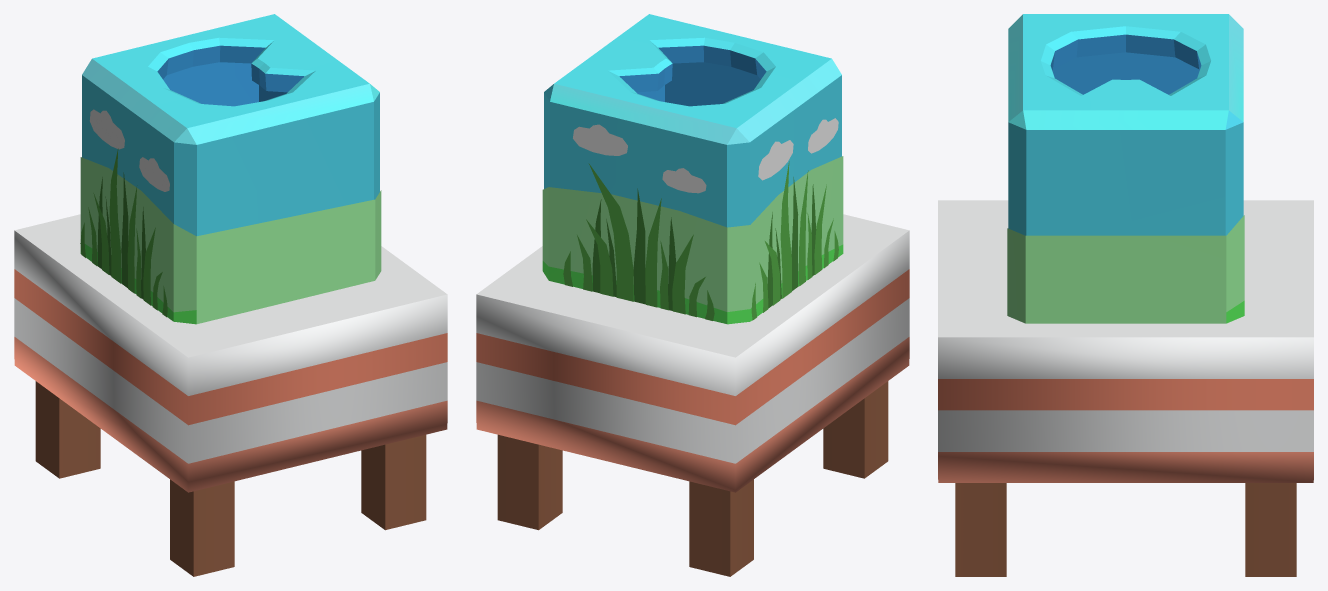
File: Lo tiet kiem 1.005.gltf
The picture shows the model from 3 angles, left to right: view 1: azimuth 30°, elevation 25°; view 2: azimuth 150°, elevation 25°; view 3: azimuth 270°, elevation 25°; orthographic projection. The views are drawn at different scales.
Visible parts, largest first — view 1: Lo tiet kiem 1.005; view 2: Lo tiet kiem 1.005; view 3: Lo tiet kiem 1.005.
Boxes of the visible parts, box(x1,y1,x2,y2) form: Lo tiet kiem 1.005: box(14, 14, 447, 576); Lo tiet kiem 1.005: box(476, 14, 909, 576); Lo tiet kiem 1.005: box(938, 14, 1313, 576).
Size of the model in its own units: 2.93 by 4.53 by 3.4.
1 material, 1 textured.
